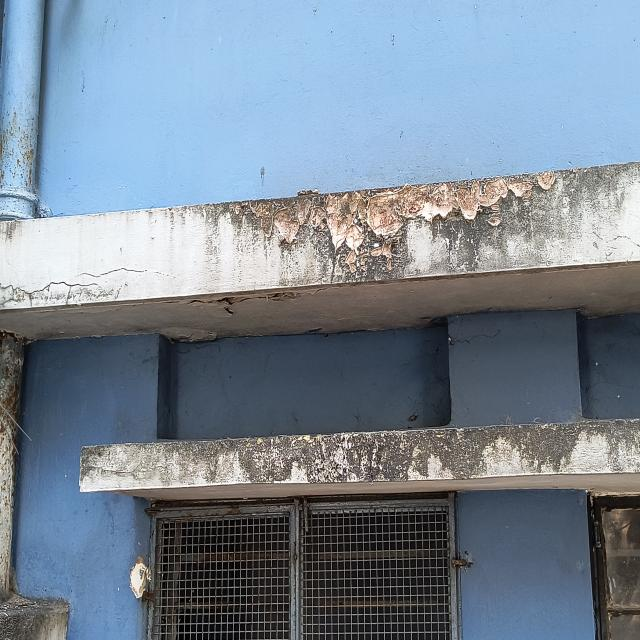Corrosion: (0, 331, 25, 480)
Crack: (0, 278, 101, 303), (73, 265, 152, 281)
Paint Peeling: (250, 171, 555, 274)
Scaling: (162, 286, 335, 321)
pollution -moisture induced blackening: (200, 164, 640, 287), (80, 420, 640, 485)
